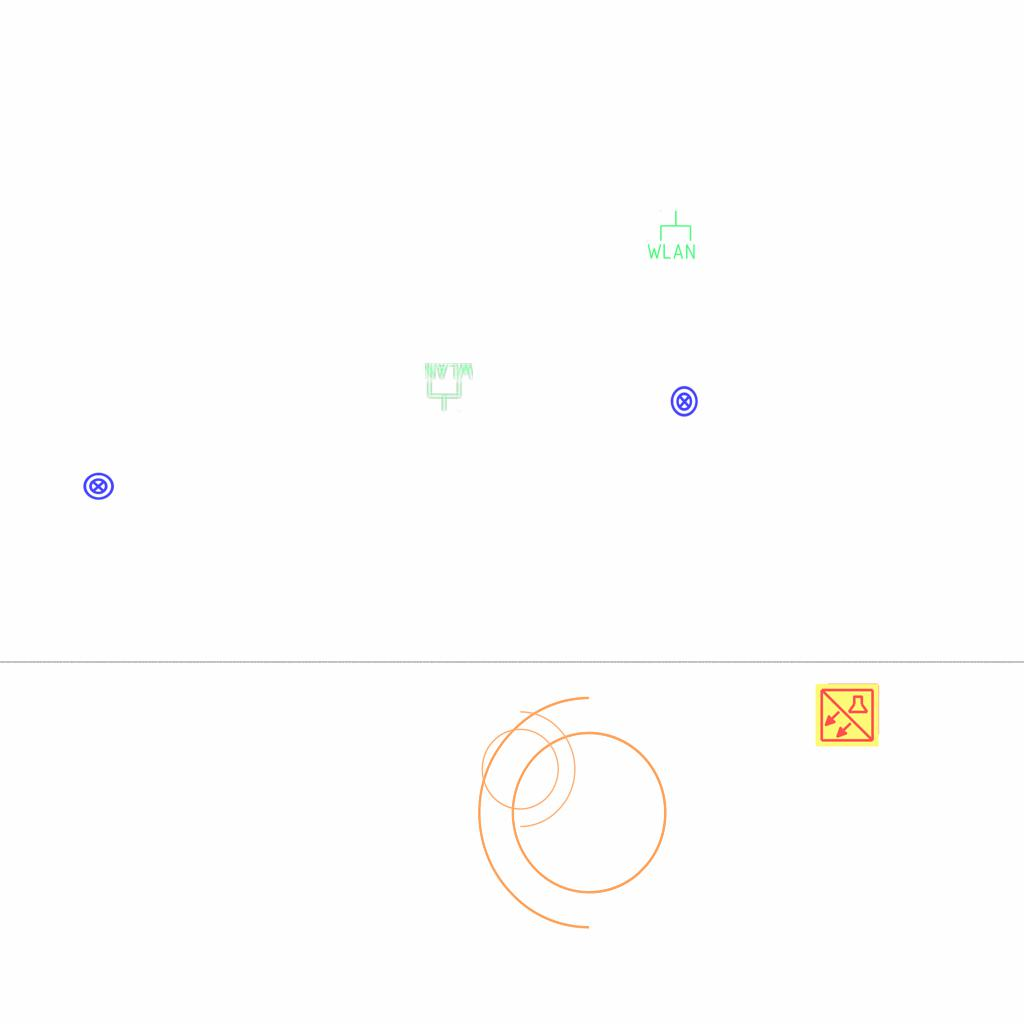OKW_Multisensormelder_(Kombination_optischer_Rauch-Kahlenmonoxid_Waerme-Melder): (814, 682, 880, 748)
Scheinwerfer_fuer_Alarmbeleuchtung: (467, 687, 692, 951), (469, 700, 581, 832)
Taster_beleuchtet: (668, 385, 701, 418), (82, 470, 115, 503)
WLAN: (423, 361, 475, 413), (645, 209, 697, 261)
